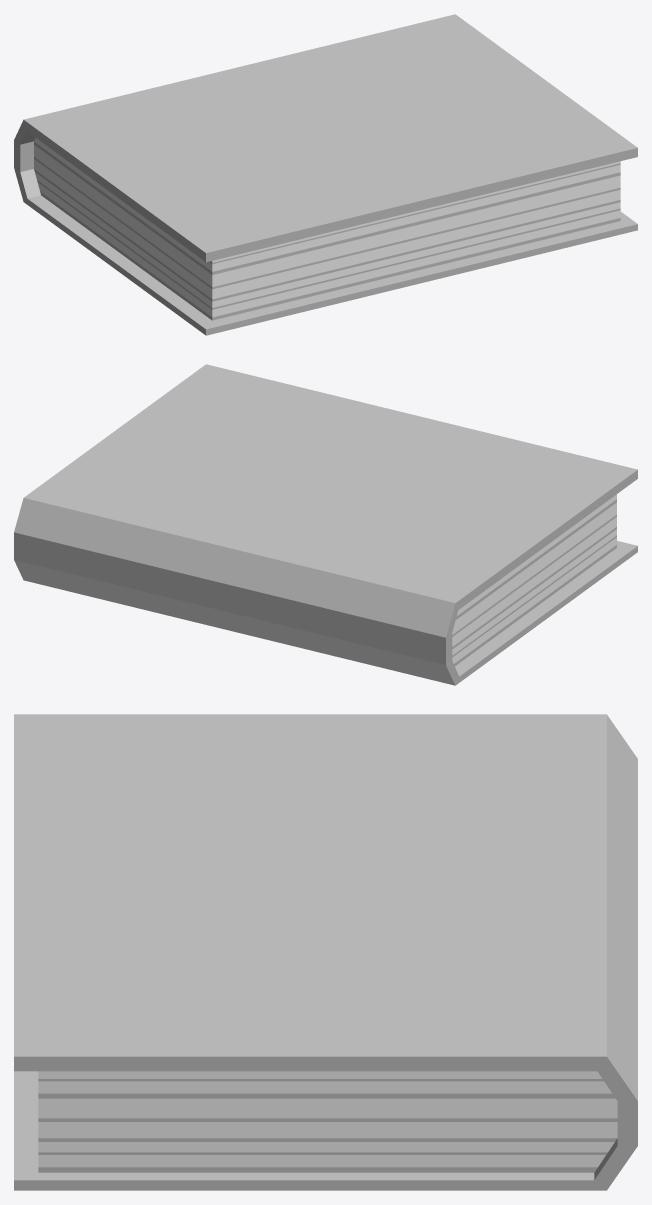
Rendered from LivroRegras.fbx.
3 views of the same model, one above another, from view 1: azimuth 30°, elevation 25°; view 2: azimuth 150°, elevation 25°; view 3: azimuth 270°, elevation 25° (orthographic). The views are drawn at different scales.
Visible parts, largest first — view 1: Cube.060; view 2: Cube.060; view 3: Cube.060.
Boxes of the visible parts, x1,y1,x2,y2 form: Cube.060: (14,14,637,335); Cube.060: (14,364,637,685); Cube.060: (14,714,637,1190).
Size of the model in its own units: 72.4 by 13.22 by 55.79.
